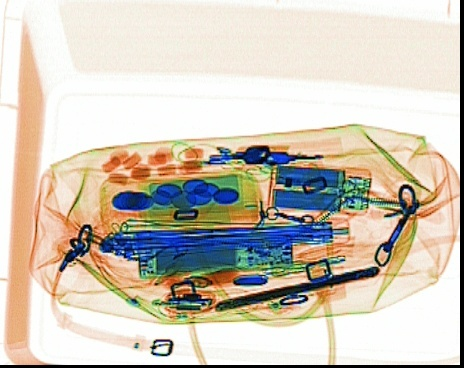powerbank: (264, 161, 374, 218)
